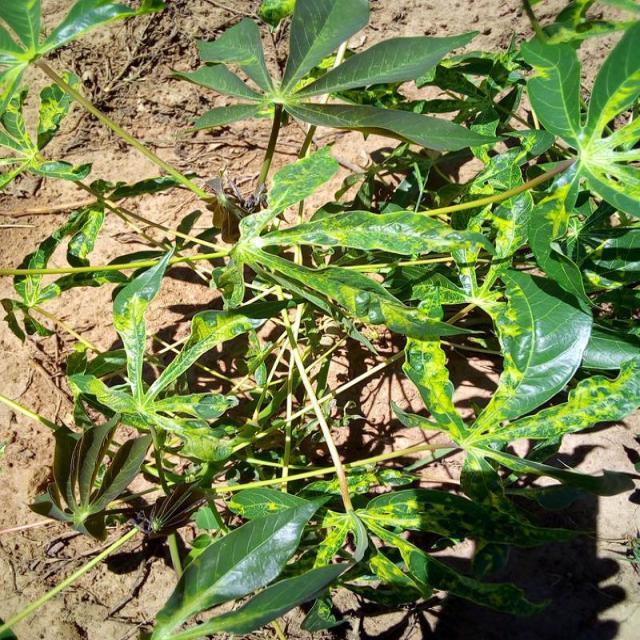cassava leaf: (1, 1, 638, 637), (150, 484, 331, 638), (484, 264, 593, 426)
